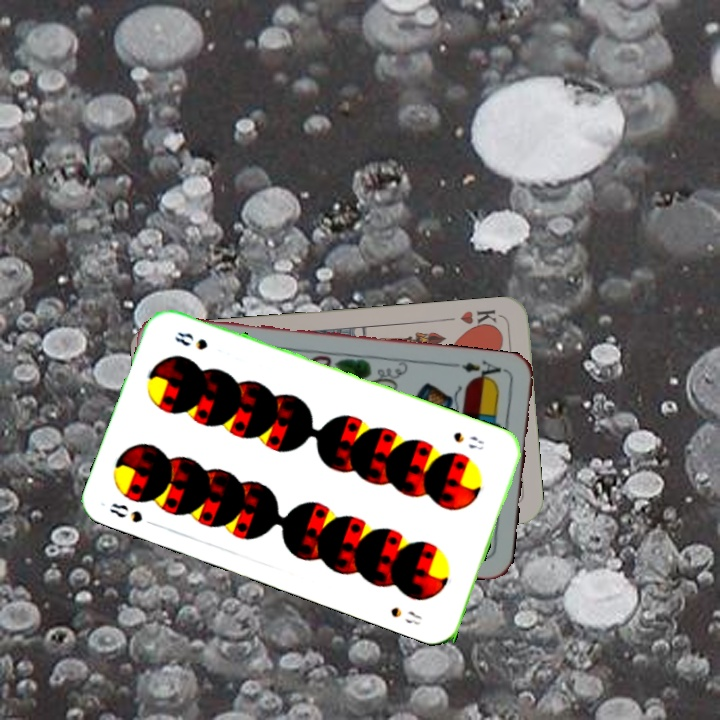EA: (450, 356, 509, 385)
HK: (456, 306, 500, 333)
S8: (106, 498, 160, 530), (449, 428, 487, 453)
